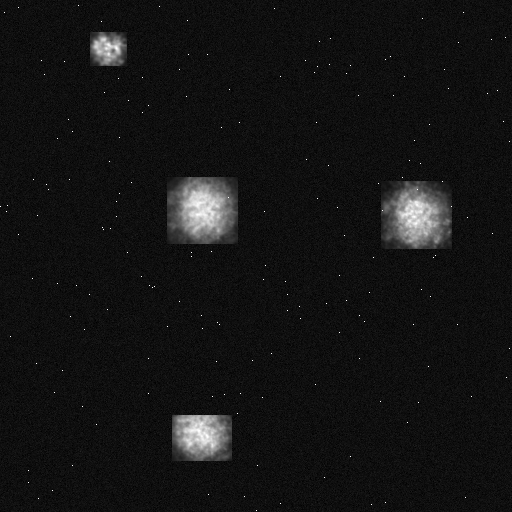lam1: (90, 32, 126, 65)
lam3: (381, 181, 451, 248), (167, 177, 237, 243), (172, 415, 231, 460)
